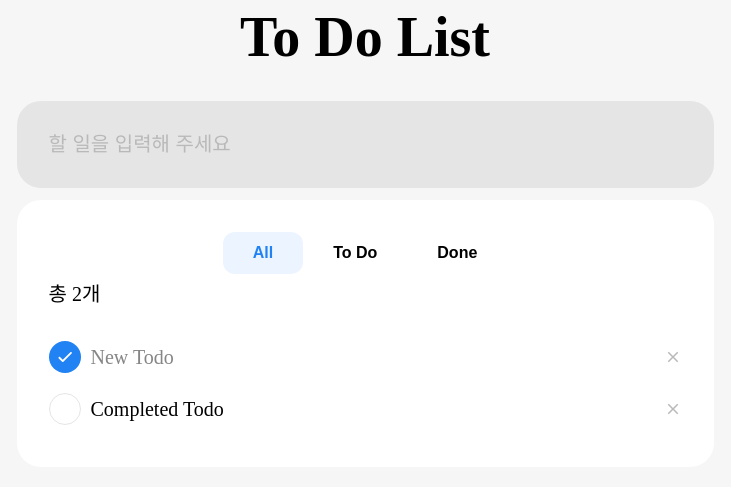
it: TodoUserListPage › deletes a todo item
The width and height of the screenshot is (731, 494).
Type "Delete Todo" into the field with placeholder "할 일을 입력해 주세요" at (365, 144), box [16,101,714,188]
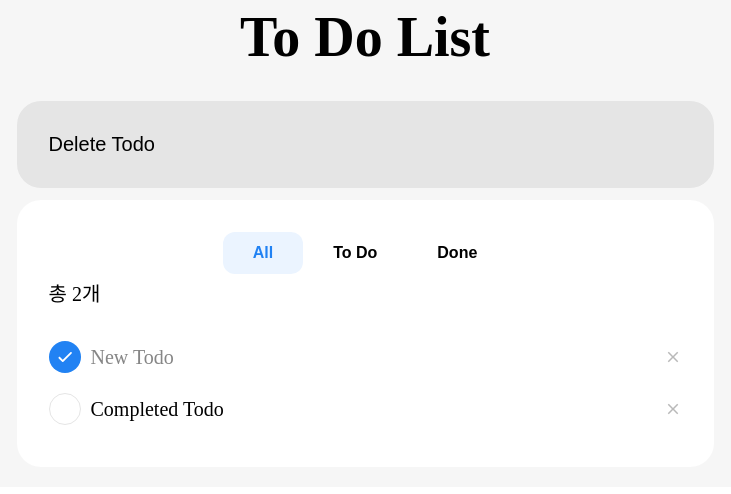
Submit the form from the field with placeholder "할 일을 입력해 주세요", box [16,101,714,188]
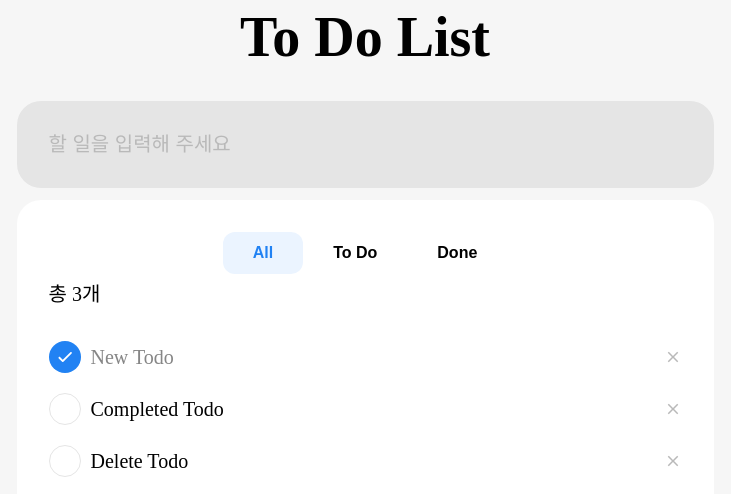
expect the text "Delete Todo" is shown: met, box [90,450,188,472]
Click the button named "delete" in the row of "New Todo" at (672, 357), box [664,348,682,366]
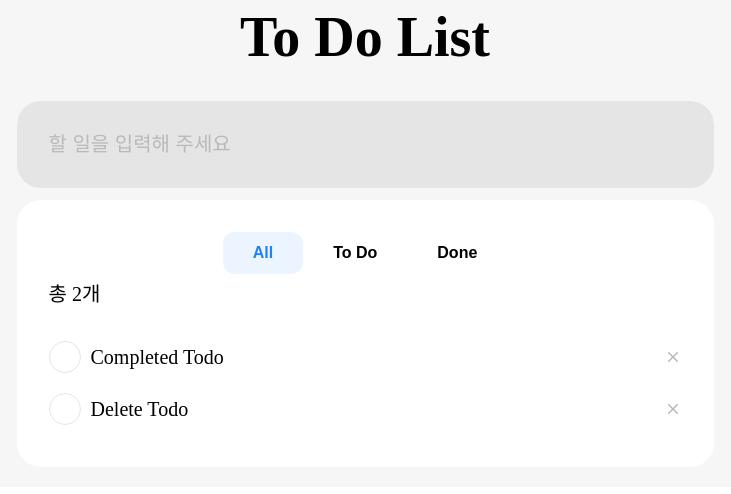
expect the list item with test id "todo-item-0" is gone: met
